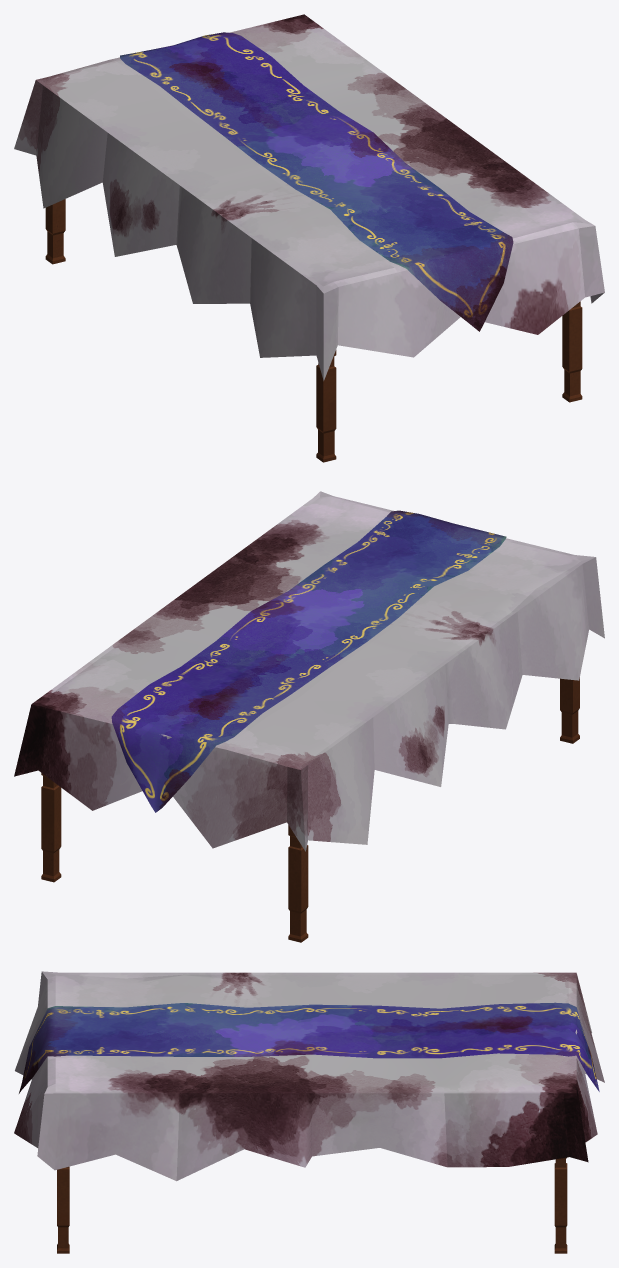
Rendered from table_big.fbx.
3 views of the same model, one above another, from view 1: azimuth 30°, elevation 25°; view 2: azimuth 150°, elevation 25°; view 3: azimuth 270°, elevation 25° (orthographic). The views are drawn at different scales.
Visible parts, largest first — view 1: table_cloth, table_cloth2, table; view 2: table_cloth, table_cloth2, table; view 3: table_cloth, table_cloth2, table.
Boxes of the visible parts, x1=… form: table_cloth: x1=14, y1=14, x2=604, y2=380; table_cloth2: x1=120, y1=32, x2=513, y2=331; table: x1=45, y1=199, x2=582, y2=462; table_cloth: x1=14, y1=491, x2=604, y2=851; table_cloth2: x1=111, y1=510, x2=506, y2=812; table: x1=41, y1=677, x2=579, y2=942; table_cloth: x1=14, y1=971, x2=604, y2=1181; table_cloth2: x1=19, y1=1002, x2=599, y2=1093; table: x1=57, y1=1157, x2=567, y2=1253.
Size of the model in its own units: 19.64 by 10.61 by 33.66.
Materials: 1 (1 with a texture image).
